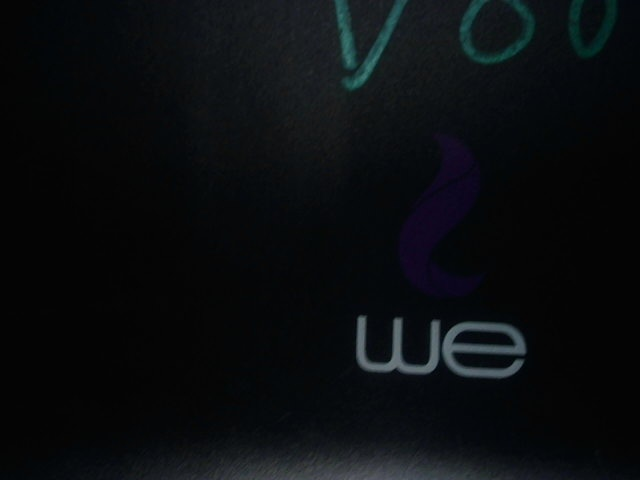AT_We: (346, 133, 531, 389)
